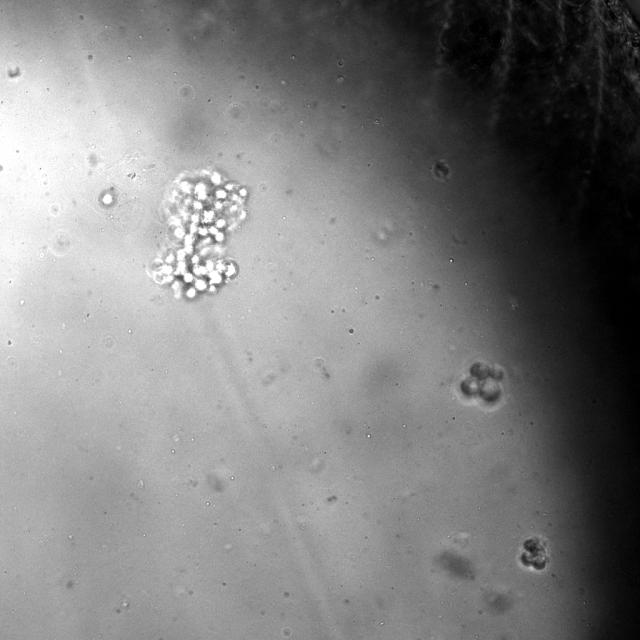organoid: (152, 169, 247, 299), (456, 361, 504, 410), (518, 535, 550, 572), (430, 160, 451, 182), (98, 187, 117, 208), (6, 66, 21, 79)
